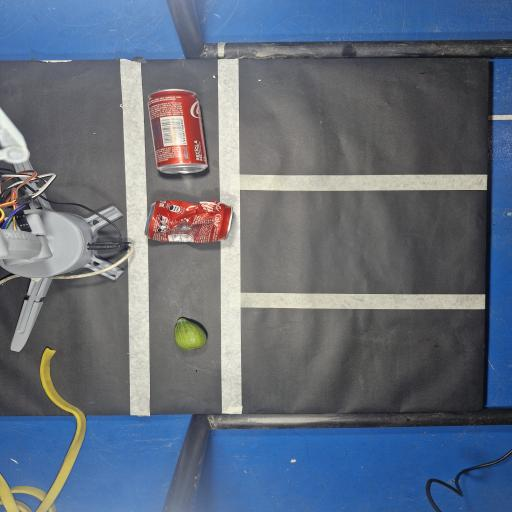higo: (174, 318, 207, 350)
lata: (148, 89, 208, 173)
lata_defectuoso: (145, 201, 232, 243)
